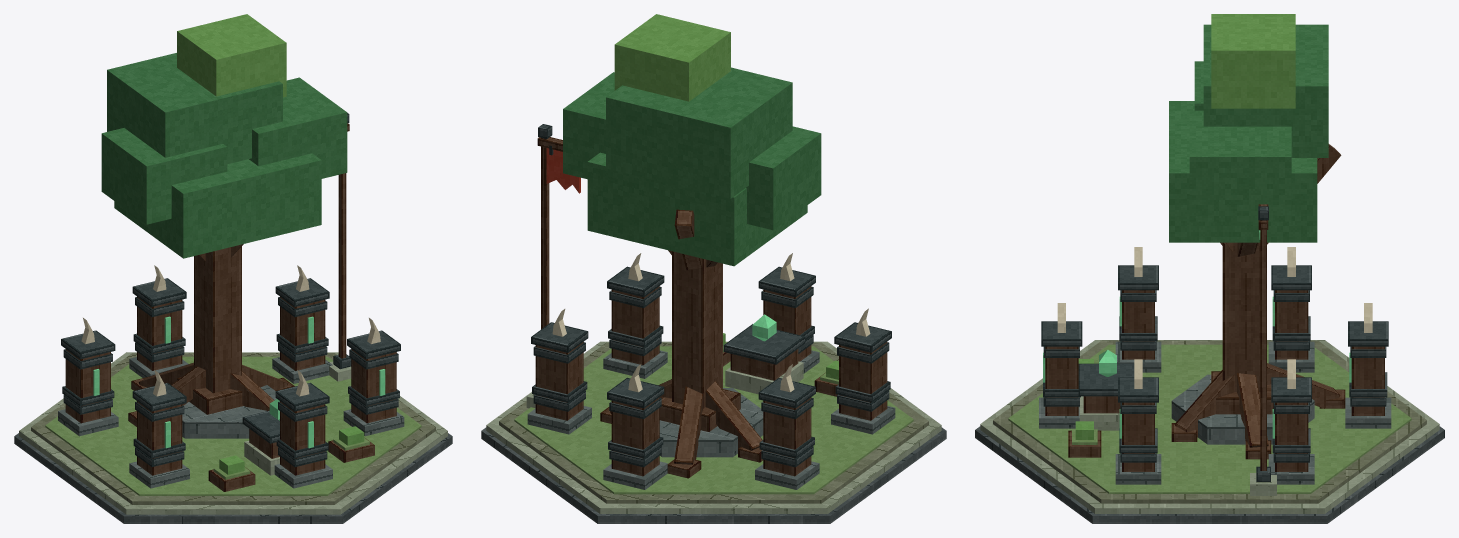
Rendered from orc_druidic_ritual_hex_v1.glb.
3 views of the same model, side by side, from view 1: azimuth 30°, elevation 25°; view 2: azimuth 150°, elevation 25°; view 3: azimuth 270°, elevation 25° (orthographic). The views are drawn at different scales.
Visible parts, largest first — view 1: Orc_Druidic_Ritual_Hex_V1_Focus, Orc_Druidic_Ritual_Hex_V1_Hall, Orc_Druidic_Ritual_Hex_V1_Foundation, Orc_Druidic_Ritual_Hex_V1_Courtyard, Orc_Druidic_Ritual_Hex_V1_Roofs, Orc_Druidic_Ritual_Hex_V1_Training, Orc_Druidic_Ritual_Hex_V1_Details, Orc_Druidic_Ritual_Hex_V1_Faction; view 2: Orc_Druidic_Ritual_Hex_V1_Focus, Orc_Druidic_Ritual_Hex_V1_Hall, Orc_Druidic_Ritual_Hex_V1_Foundation, Orc_Druidic_Ritual_Hex_V1_Courtyard, Orc_Druidic_Ritual_Hex_V1_Roofs, Orc_Druidic_Ritual_Hex_V1_Training, Orc_Druidic_Ritual_Hex_V1_Details, Orc_Druidic_Ritual_Hex_V1_Faction; view 3: Orc_Druidic_Ritual_Hex_V1_Focus, Orc_Druidic_Ritual_Hex_V1_Foundation, Orc_Druidic_Ritual_Hex_V1_Courtyard, Orc_Druidic_Ritual_Hex_V1_Hall, Orc_Druidic_Ritual_Hex_V1_Roofs, Orc_Druidic_Ritual_Hex_V1_Details, Orc_Druidic_Ritual_Hex_V1_Training, Orc_Druidic_Ritual_Hex_V1_Faction.
Part boxes in pixels (left/top/right/bottom): Orc_Druidic_Ritual_Hex_V1_Focus: left=93, top=14, right=385, bottom=448; Orc_Druidic_Ritual_Hex_V1_Hall: left=58, top=296, right=404, bottom=488; Orc_Druidic_Ritual_Hex_V1_Foundation: left=14, top=352, right=452, bottom=523; Orc_Druidic_Ritual_Hex_V1_Courtyard: left=45, top=356, right=421, bottom=495; Orc_Druidic_Ritual_Hex_V1_Roofs: left=61, top=278, right=400, bottom=411; Orc_Druidic_Ritual_Hex_V1_Training: left=208, top=410, right=374, bottom=491; Orc_Druidic_Ritual_Hex_V1_Details: left=62, top=265, right=399, bottom=458; Orc_Druidic_Ritual_Hex_V1_Faction: left=329, top=113, right=351, bottom=381; Orc_Druidic_Ritual_Hex_V1_Focus: left=563, top=14, right=821, bottom=478; Orc_Druidic_Ritual_Hex_V1_Hall: left=527, top=286, right=895, bottom=489; Orc_Druidic_Ritual_Hex_V1_Foundation: left=481, top=341, right=946, bottom=523; Orc_Druidic_Ritual_Hex_V1_Courtyard: left=514, top=346, right=913, bottom=494; Orc_Druidic_Ritual_Hex_V1_Roofs: left=531, top=266, right=891, bottom=408; Orc_Druidic_Ritual_Hex_V1_Training: left=723, top=324, right=838, bottom=396; Orc_Druidic_Ritual_Hex_V1_Details: left=532, top=253, right=890, bottom=458; Orc_Druidic_Ritual_Hex_V1_Faction: left=526, top=124, right=580, bottom=408; Orc_Druidic_Ritual_Hex_V1_Focus: left=1043, top=14, right=1351, bottom=459; Orc_Druidic_Ritual_Hex_V1_Foundation: left=975, top=340, right=1444, bottom=523; Orc_Druidic_Ritual_Hex_V1_Courtyard: left=1008, top=344, right=1411, bottom=493; Orc_Druidic_Ritual_Hex_V1_Hall: left=1039, top=290, right=1391, bottom=484; Orc_Druidic_Ritual_Hex_V1_Roofs: left=1041, top=265, right=1388, bottom=402; Orc_Druidic_Ritual_Hex_V1_Details: left=1043, top=247, right=1387, bottom=453; Orc_Druidic_Ritual_Hex_V1_Training: left=1068, top=359, right=1134, bottom=457; Orc_Druidic_Ritual_Hex_V1_Faction: left=1250, top=204, right=1276, bottom=495.
Size of the model in its own units: 1.59 by 1.79 by 1.84.
1 material, 1 textured.
